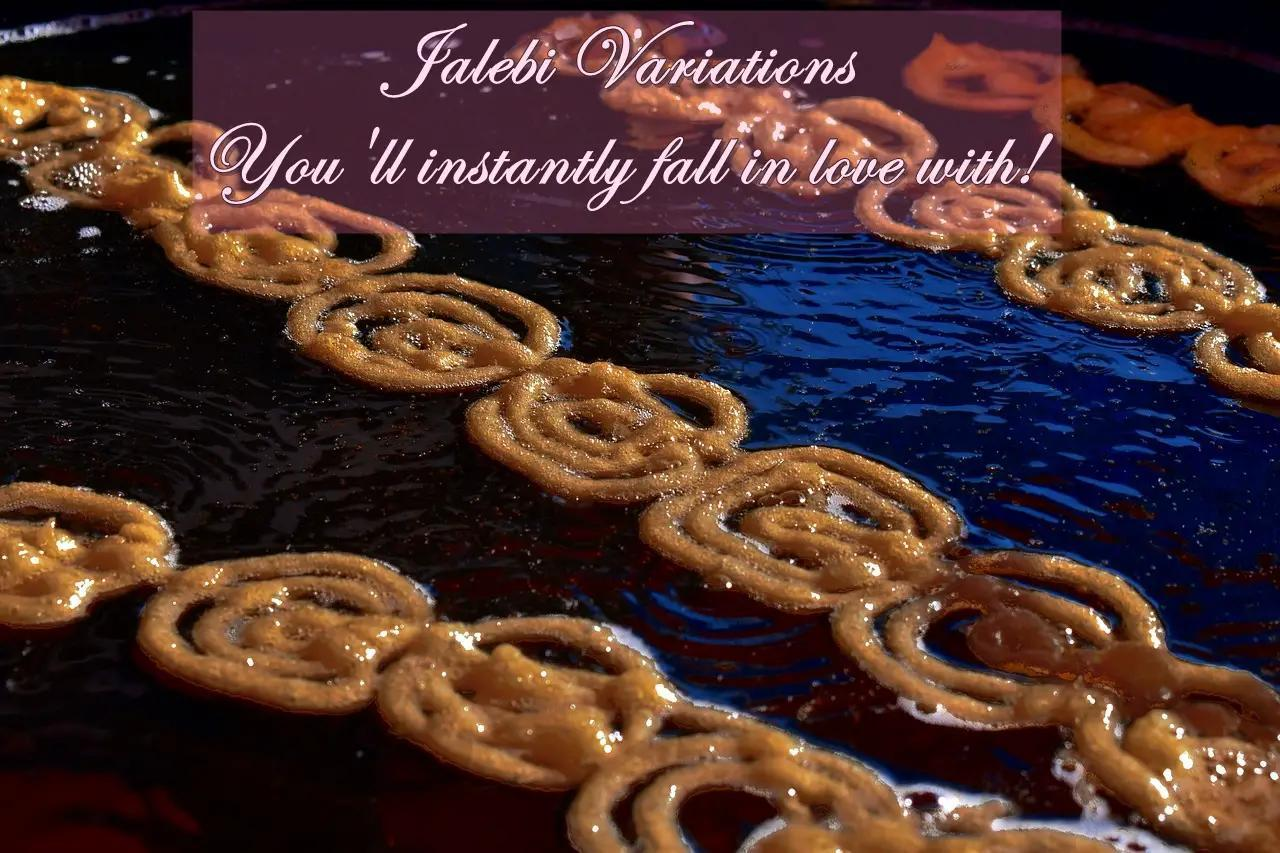jalebi: (5, 466, 922, 840), (28, 69, 795, 502), (862, 79, 1280, 392), (968, 489, 1280, 840)
